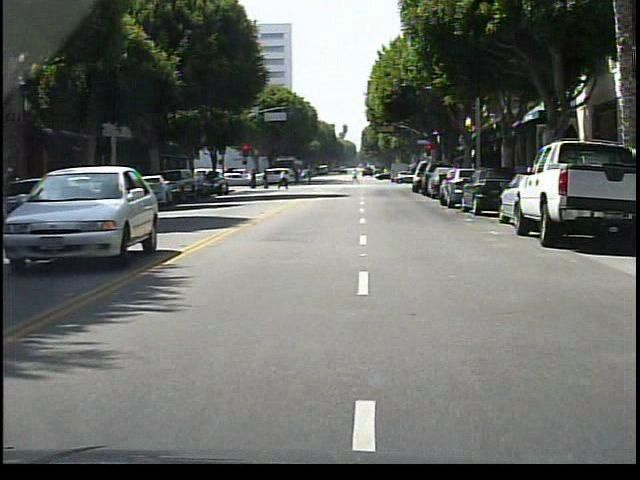person: (275, 165, 295, 194)
